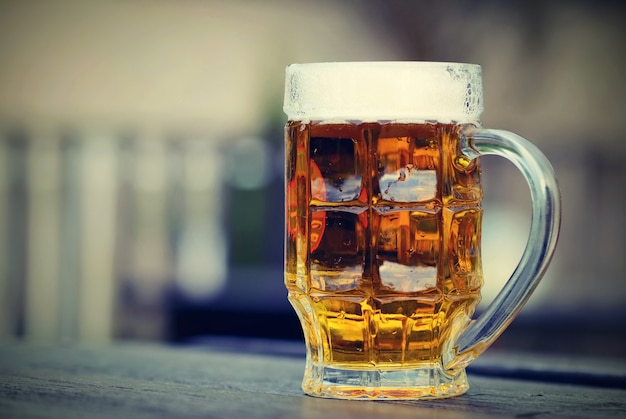alcohol: (283, 59, 567, 401)
